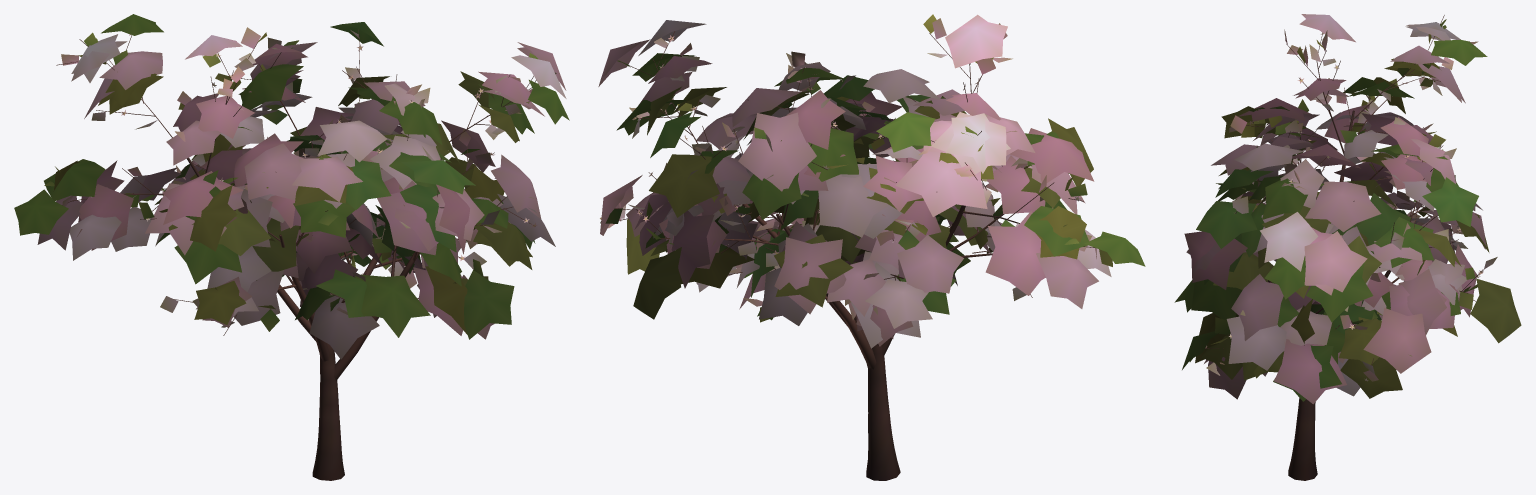
The model's file is cherry-b.lod0.glb.
3 renders of one model, left to right at view 1: azimuth 30°, elevation 25°; view 2: azimuth 150°, elevation 25°; view 3: azimuth 270°, elevation 25°, orthographic. The views are drawn at different scales.
Size of the model in its own units: 7.98 by 6.64 by 5.03.
